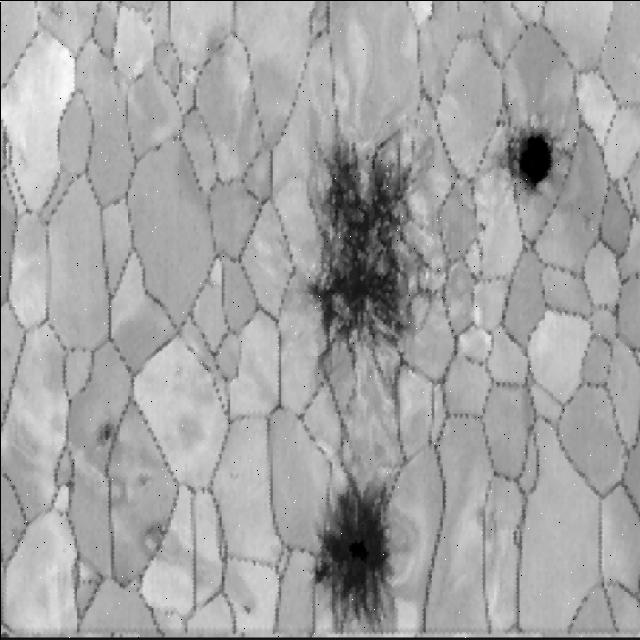good_void: (311, 107, 441, 387), (318, 481, 397, 633), (507, 114, 569, 200), (138, 514, 179, 570), (94, 416, 123, 450), (135, 464, 157, 492), (243, 600, 253, 614)
